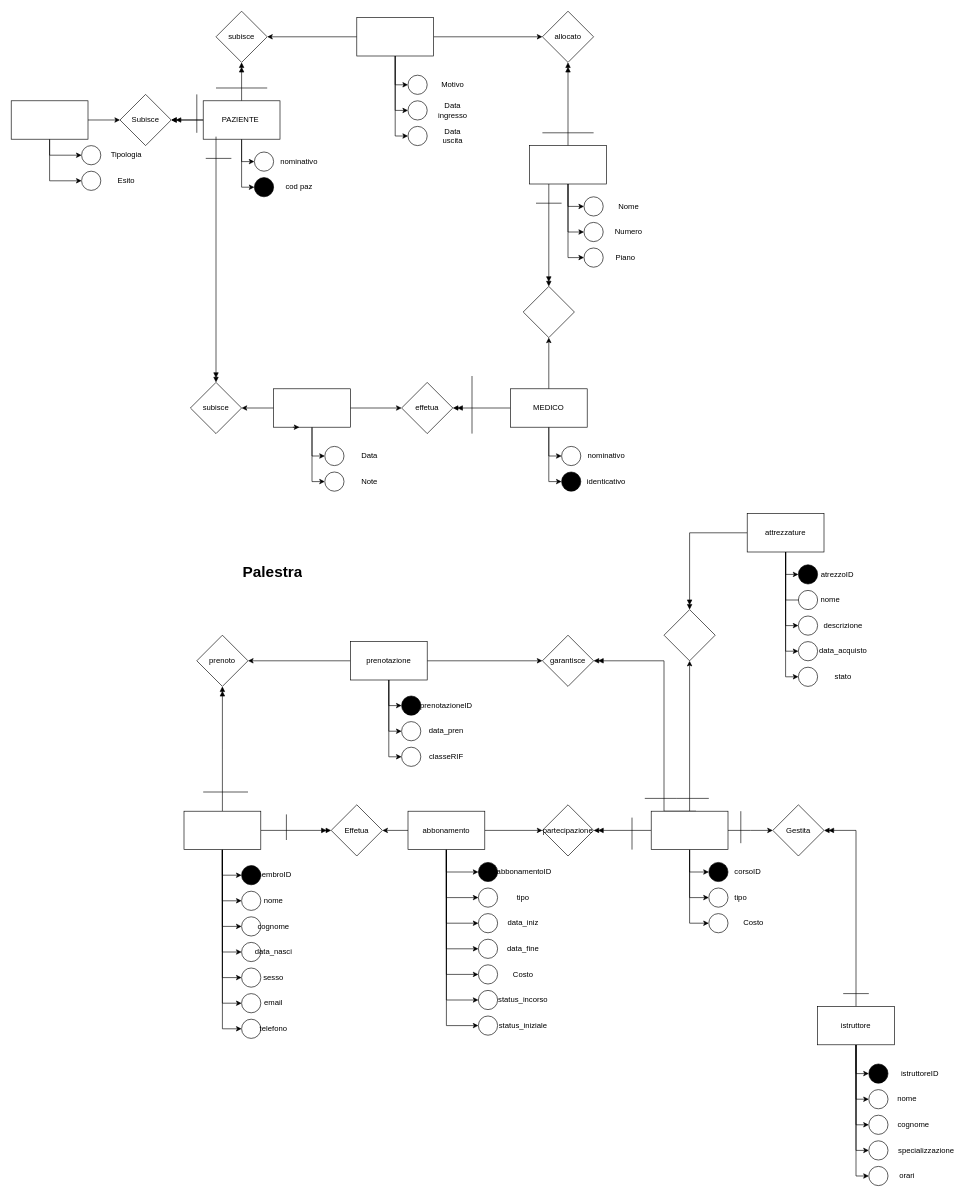
Some shapes in this 965 by 1197 pixel diagram are drawn without their labels. The centre of each missing label's shape, as x and y in pixels:
"Appartiene" belongs at pixel 548 312.
"Classe" belongs at pixel 689 830.
"ESAME" belongs at pixel 49 119.
"Membro" belongs at pixel 222 830.
"possiede" belongs at pixel 689 635.
"REPARTO" belongs at pixel 567 164.
"RICOVERO" belongs at pixel 395 36.
"VISITA" belongs at pixel 311 407.
